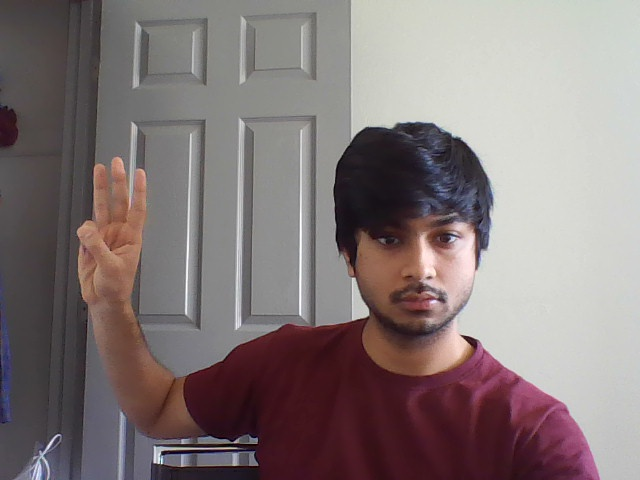three: (87, 157, 155, 238)
